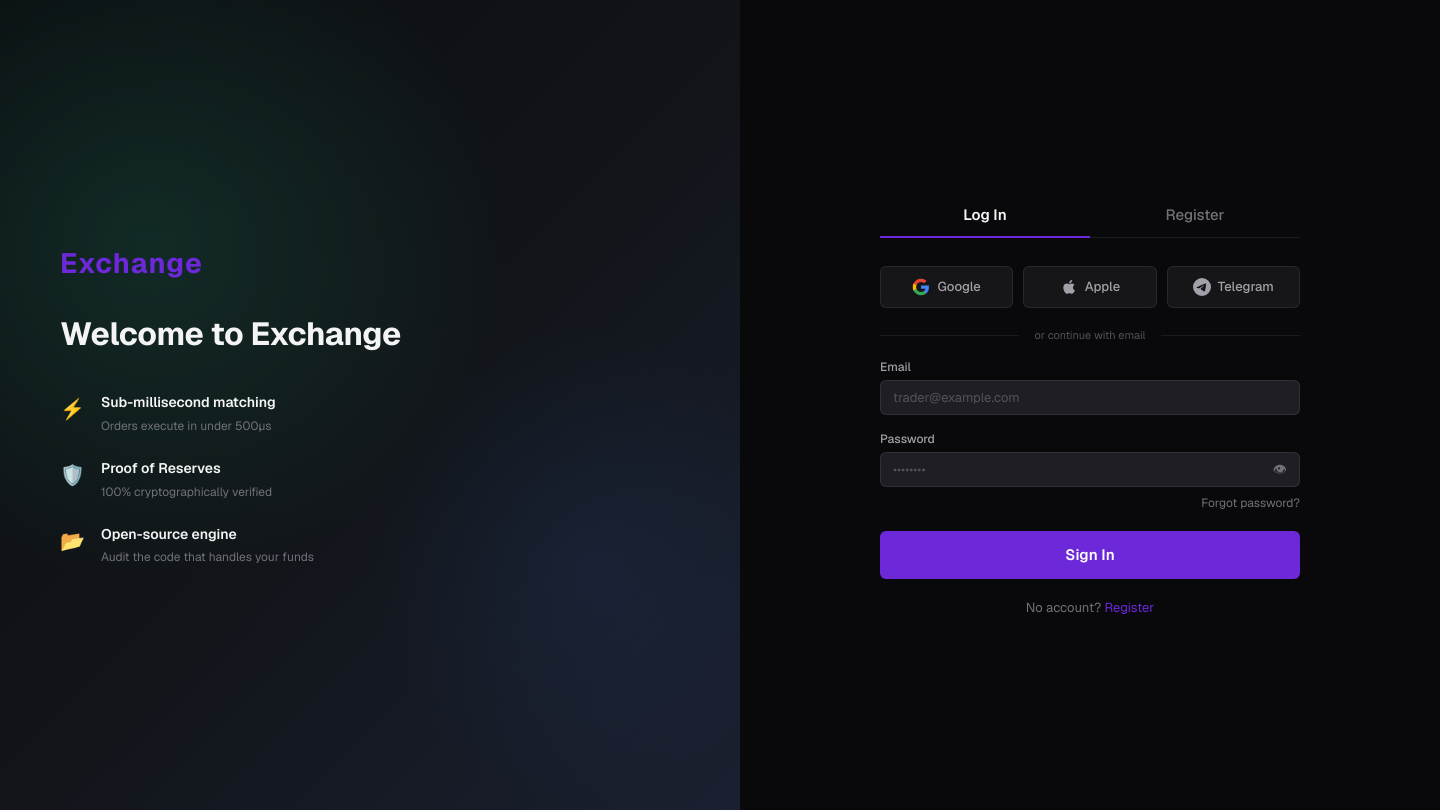
Test: AuthPage › shows validation error for invalid email
Type "notanemail" into the field labelled "Email" at (1090, 398), box [881,381,1299,414]
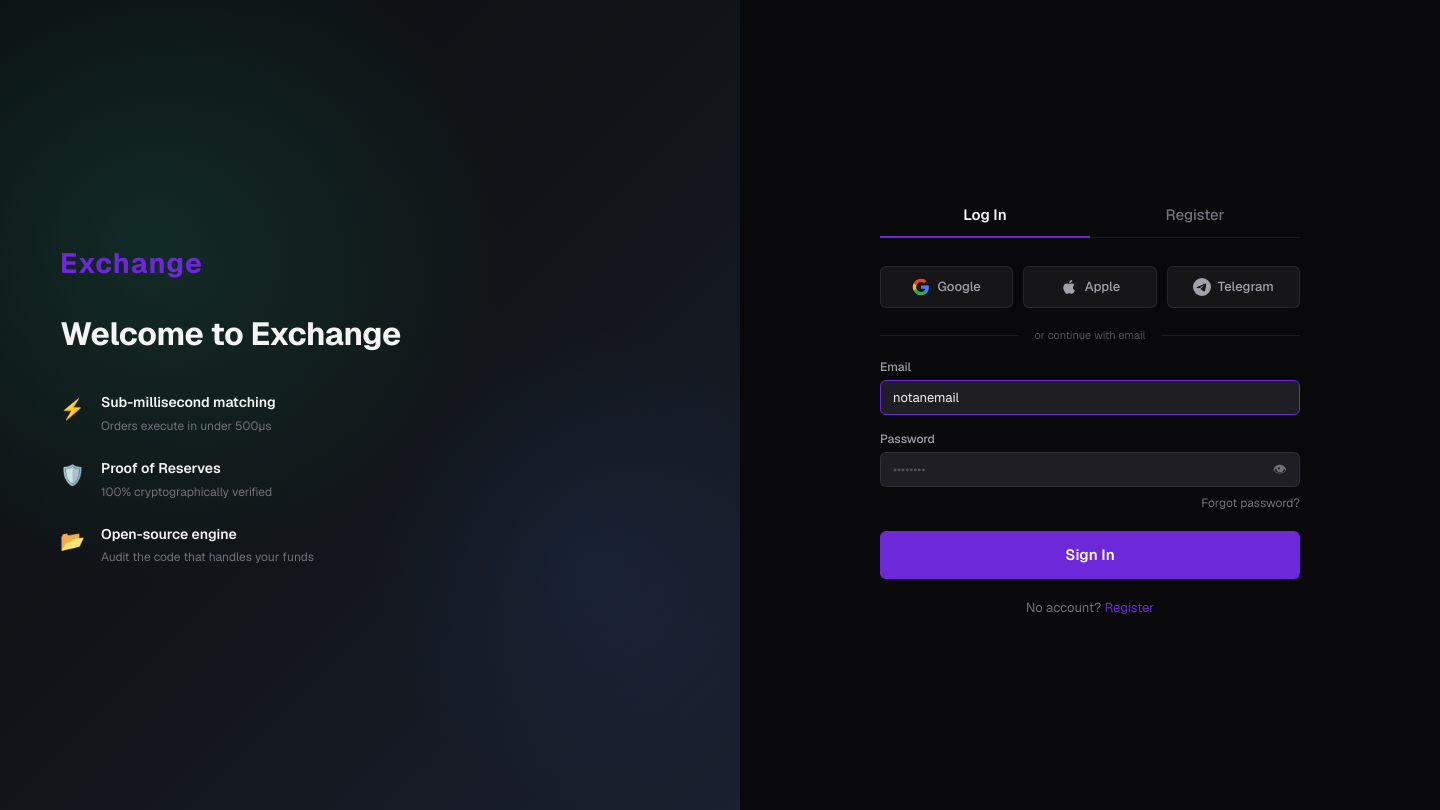
Click the button "Sign In" at (1090, 555), box [880,531,1300,579]
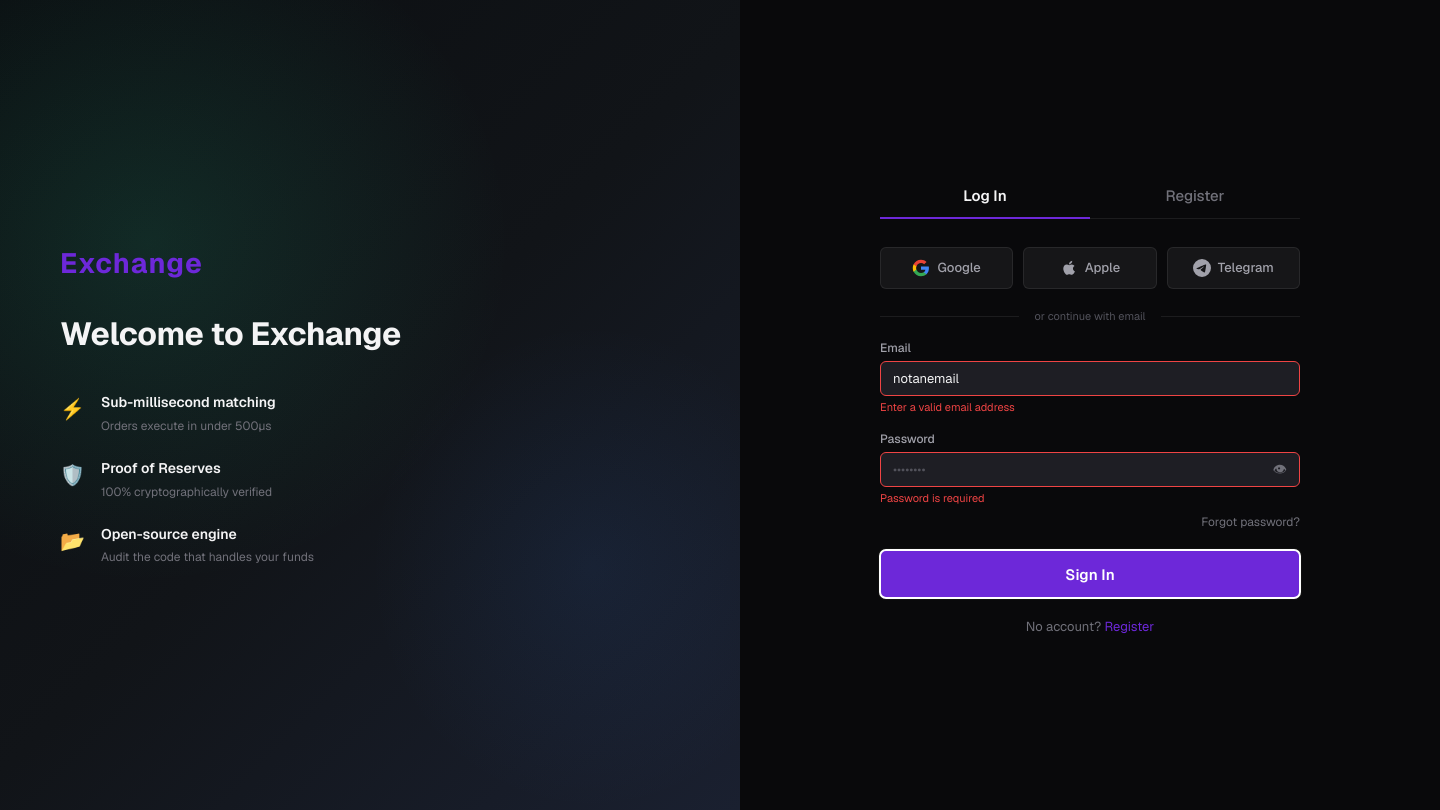
Result: the text "Enter a valid email address" is shown at [880,400,1015,414]
